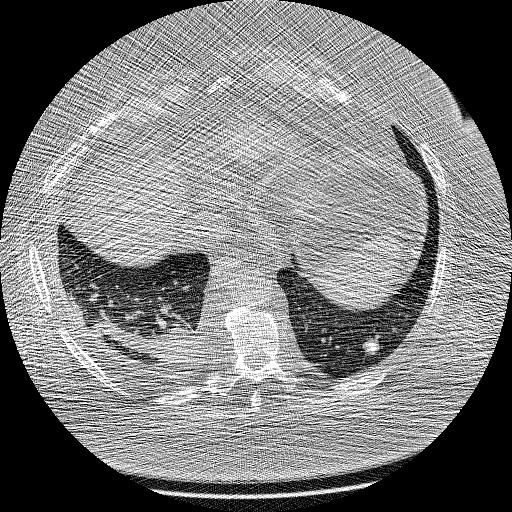nodule: (361, 337, 380, 356)
